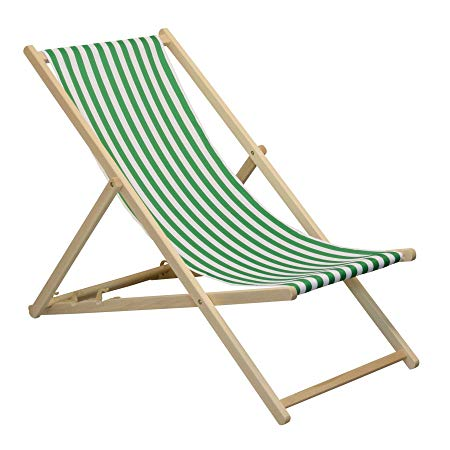chairs: (20, 28, 421, 424)
